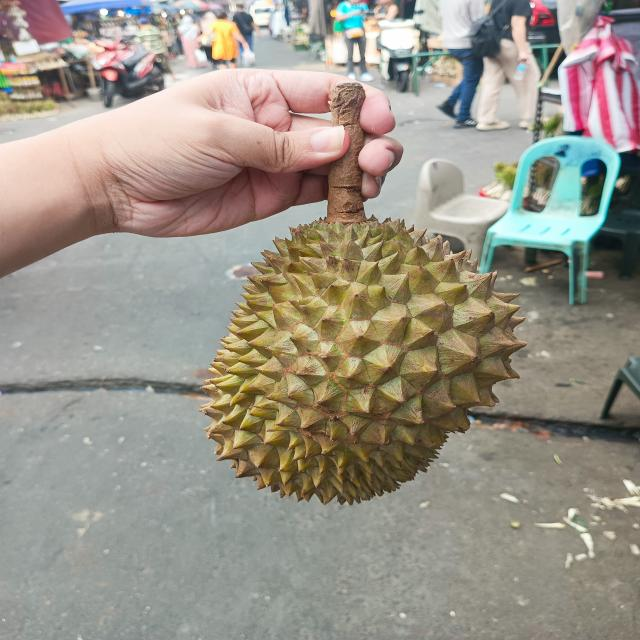mature: (197, 206, 526, 504)
